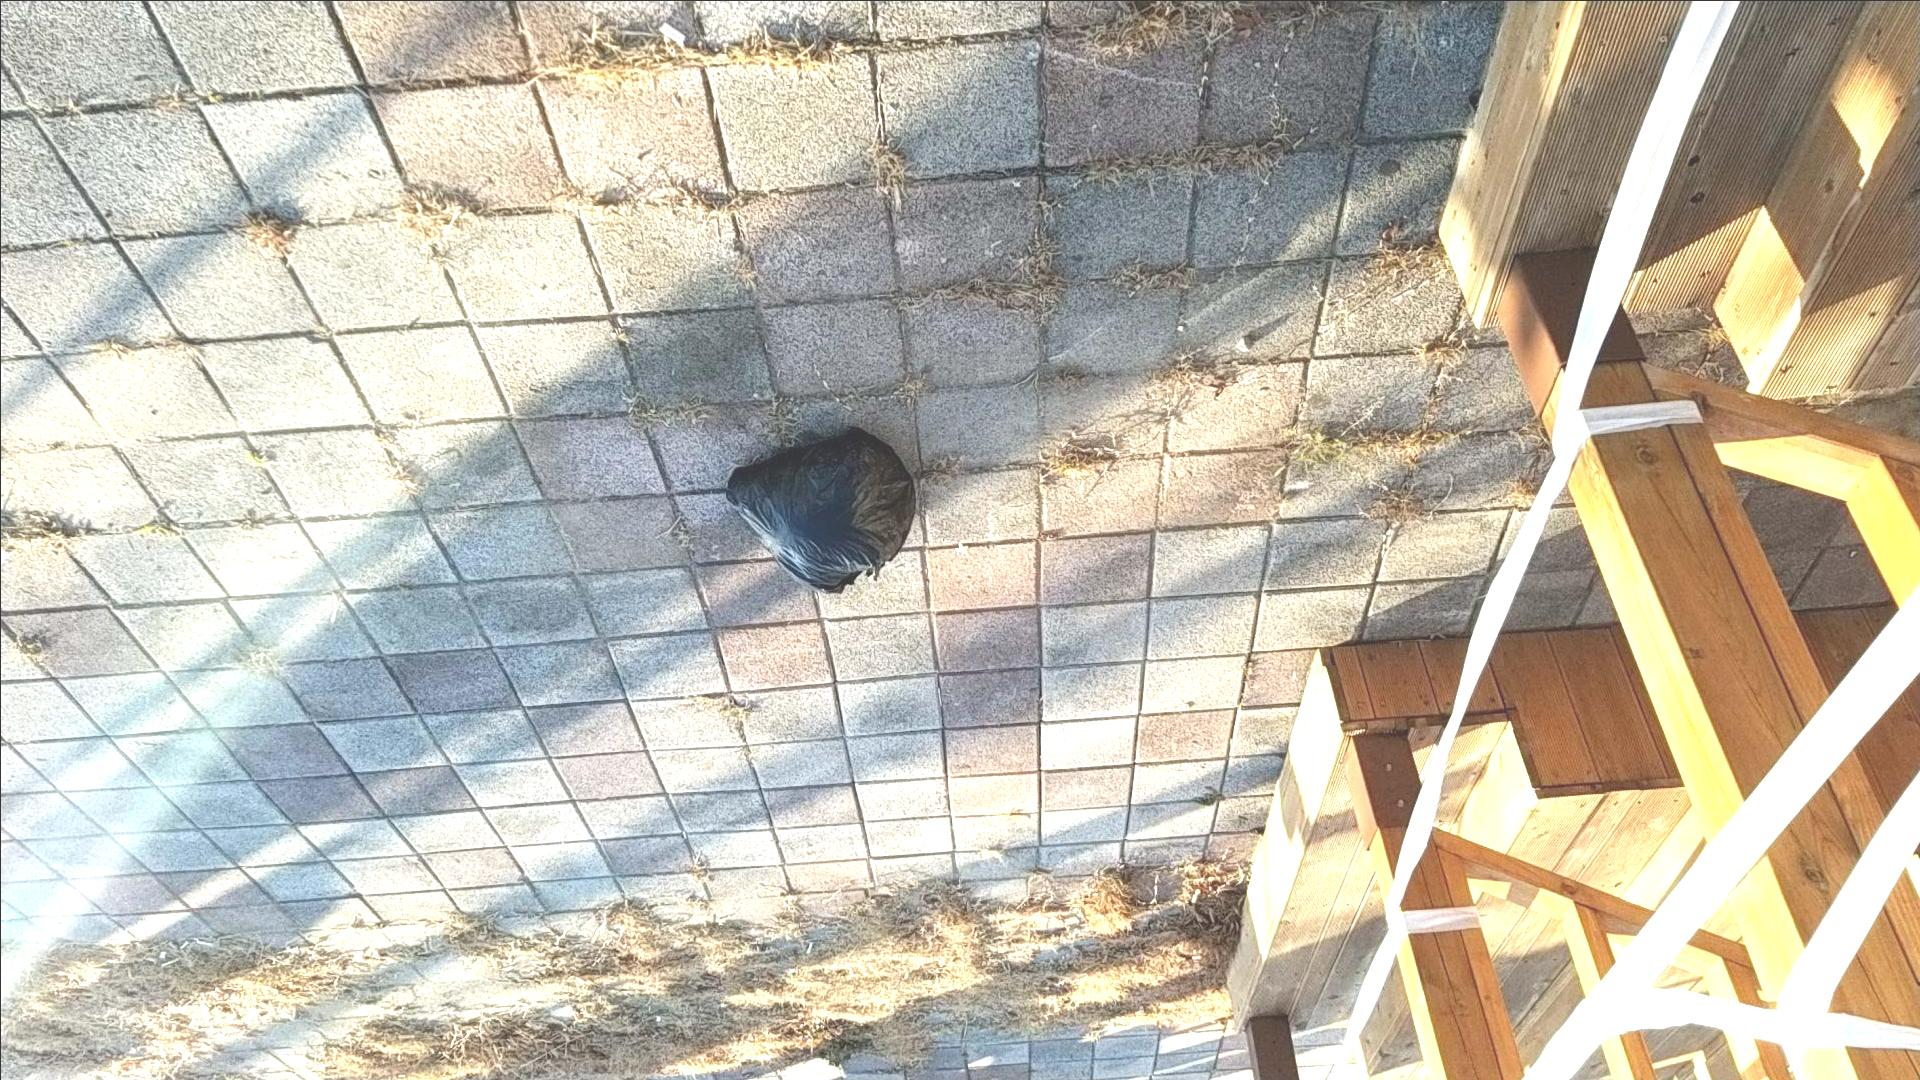black_bag: (719, 430, 930, 597)
